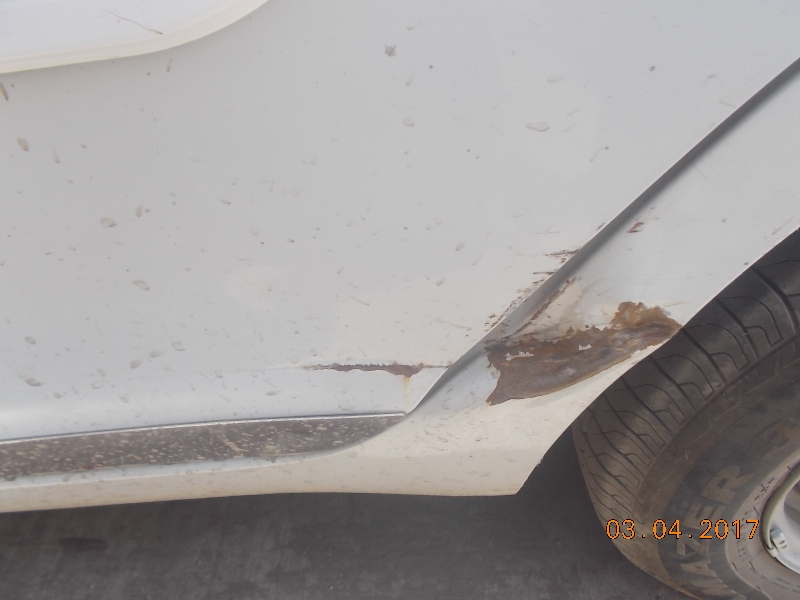Scratch_or_spot: (494, 308, 652, 385)
